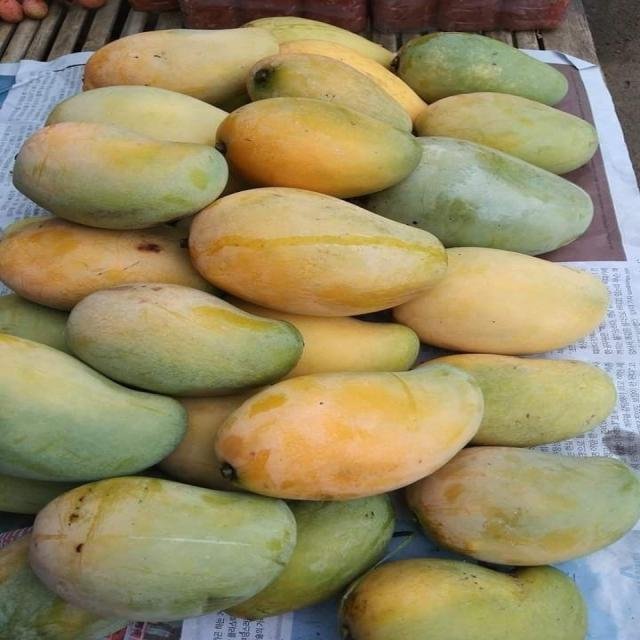mango: (30, 478, 295, 621), (216, 365, 482, 499), (190, 188, 446, 316), (407, 447, 639, 565), (0, 334, 186, 481), (362, 138, 593, 254), (67, 284, 303, 395), (13, 122, 227, 229), (394, 248, 608, 355), (227, 495, 394, 619), (217, 98, 421, 197), (341, 558, 587, 639), (0, 217, 213, 309), (426, 354, 616, 446), (84, 28, 278, 107), (229, 298, 419, 377), (416, 93, 598, 173), (248, 53, 412, 133), (0, 536, 126, 639), (398, 33, 567, 105), (280, 40, 426, 120), (46, 86, 227, 145), (158, 391, 256, 490), (244, 16, 393, 67), (0, 294, 69, 352), (0, 474, 77, 513)
